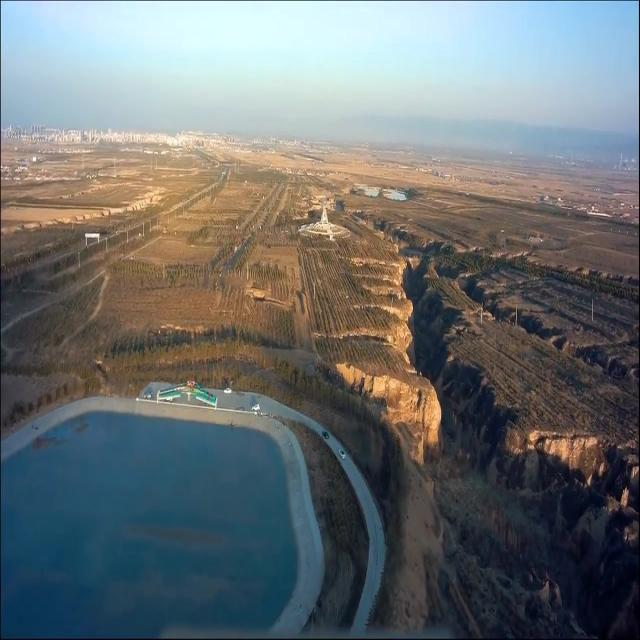iha: (158, 374, 218, 405)
